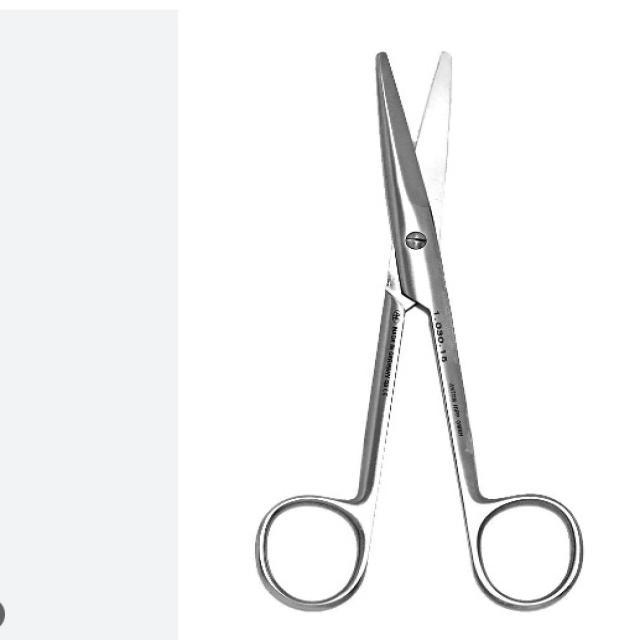Straight Mayo: (252, 30, 586, 614)
